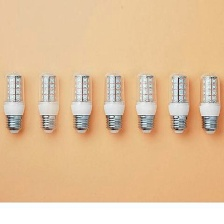light_bulb: (164, 69, 192, 136), (132, 69, 160, 135), (195, 70, 223, 134), (0, 68, 27, 134), (35, 69, 61, 136), (69, 70, 95, 134), (102, 69, 126, 135)
